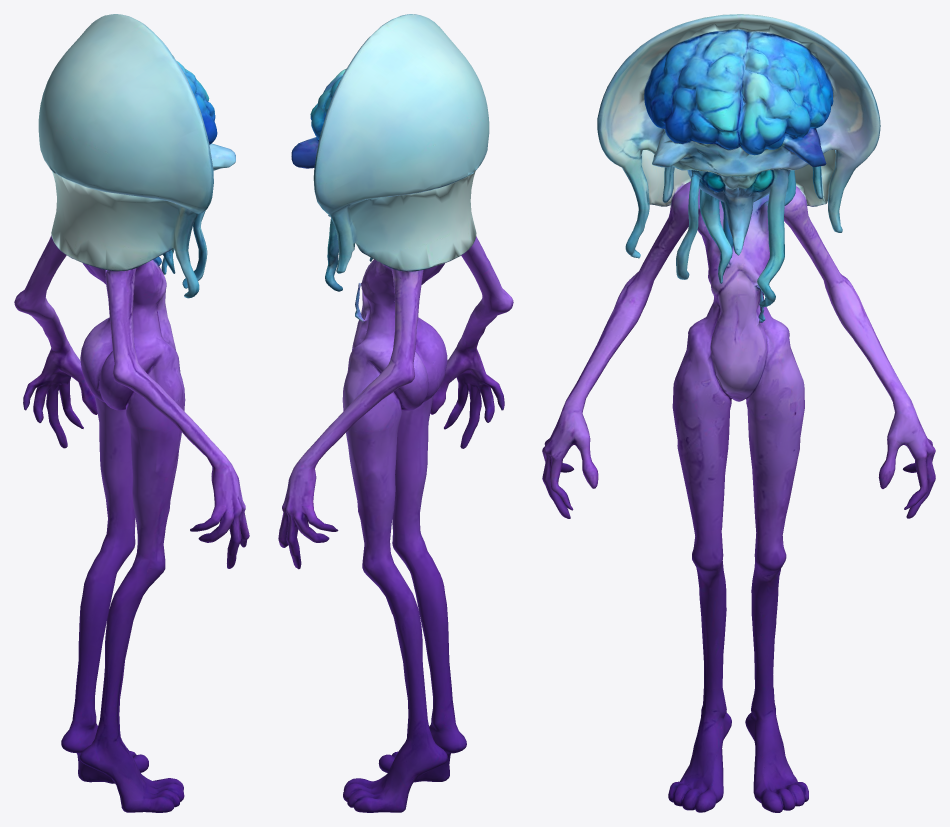
File: jelly.glb
3 renders of one model, left to right at view 1: azimuth 30°, elevation 25°; view 2: azimuth 150°, elevation 25°; view 3: azimuth 270°, elevation 25°, orthographic. The views are drawn at different scales.
Parts seen in each view (by area): view 1: tripo_node_8dd87787-d65f-480a-99d9-7266fb7eb25b; view 2: tripo_node_8dd87787-d65f-480a-99d9-7266fb7eb25b; view 3: tripo_node_8dd87787-d65f-480a-99d9-7266fb7eb25b.
Boxes of the visible parts, bbox=[...] form: tripo_node_8dd87787-d65f-480a-99d9-7266fb7eb25b: bbox=[14, 14, 249, 812]; tripo_node_8dd87787-d65f-480a-99d9-7266fb7eb25b: bbox=[278, 14, 513, 812]; tripo_node_8dd87787-d65f-480a-99d9-7266fb7eb25b: bbox=[542, 14, 935, 812].
Size of the model in its own units: 0.2021 by 0.9999 by 0.4512.
1 material, 1 textured.
